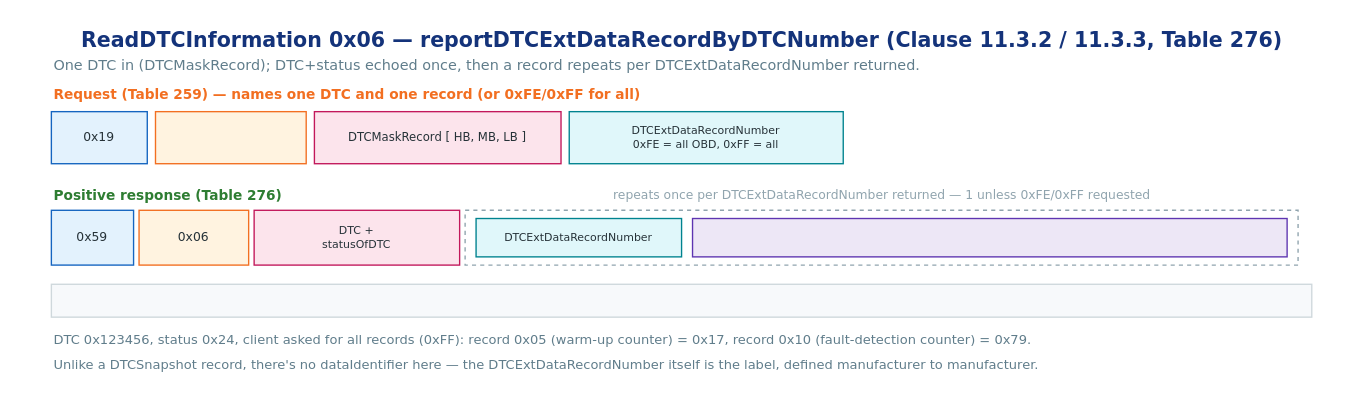
Some shapes in this 1362 by 397 pixel diagram are drawn without their labels. Each missing label, with the box of its shape:
Example (11.3.5.8): 19 06 12 34 56 FF → 59 06 | 12 34 56 24 | 05 17 | 10 79: (50, 283, 1312, 317)
extendedData bytes — manufacturer-defined, not part of ISO 14229-1: (691, 217, 1287, 257)
reportType 0x06: (154, 110, 306, 164)
